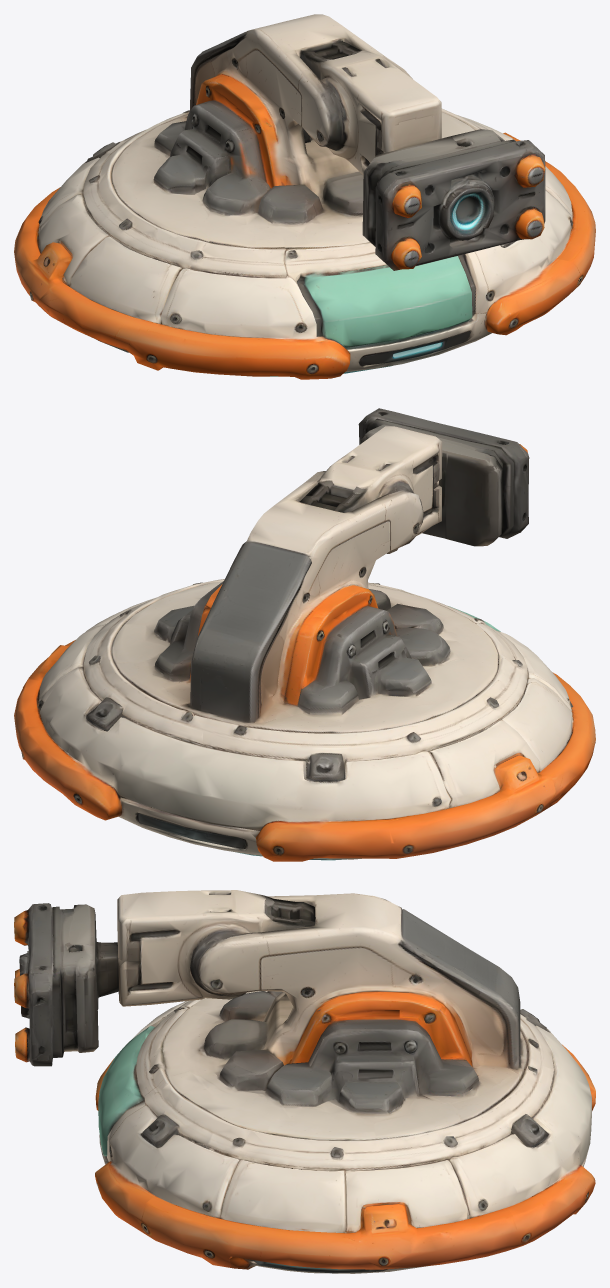
Rendered from sci-fi drone 3d model.glb.
3 views of the same model, one above another, from view 1: azimuth 30°, elevation 25°; view 2: azimuth 150°, elevation 25°; view 3: azimuth 270°, elevation 25° (orthographic). The views are drawn at different scales.
Parts seen in each view (by area): view 1: tripo_node_bfeab568-13eb-410a-8e08-5b2560f88609; view 2: tripo_node_bfeab568-13eb-410a-8e08-5b2560f88609; view 3: tripo_node_bfeab568-13eb-410a-8e08-5b2560f88609.
Part boxes in pixels (<box>): tripo_node_bfeab568-13eb-410a-8e08-5b2560f88609: <box>14,14,595,379</box>; tripo_node_bfeab568-13eb-410a-8e08-5b2560f88609: <box>14,408,595,861</box>; tripo_node_bfeab568-13eb-410a-8e08-5b2560f88609: <box>14,890,595,1273</box>.
Bounding box in the file's own units: 1 × 0.5142 × 0.95.
1 material, 1 textured.
